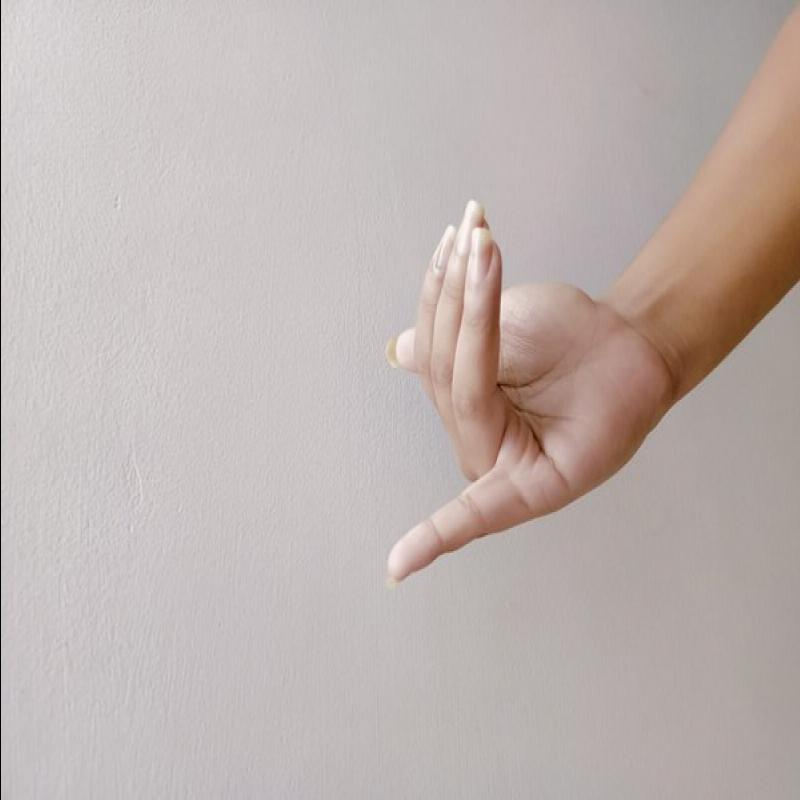Kartharee Mukham: (357, 192, 684, 597)
